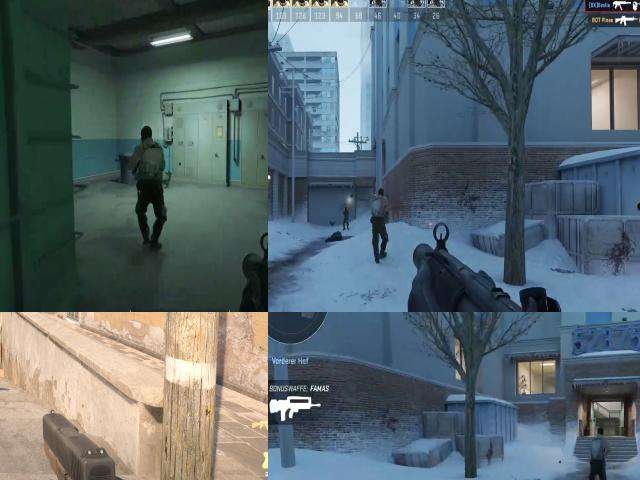CT: (342, 205, 352, 227)
Dead: (327, 230, 346, 244)
T: (130, 122, 167, 196), (588, 432, 610, 469), (371, 196, 391, 227)
T-Head: (138, 125, 155, 148), (595, 426, 604, 445), (376, 187, 385, 204)
